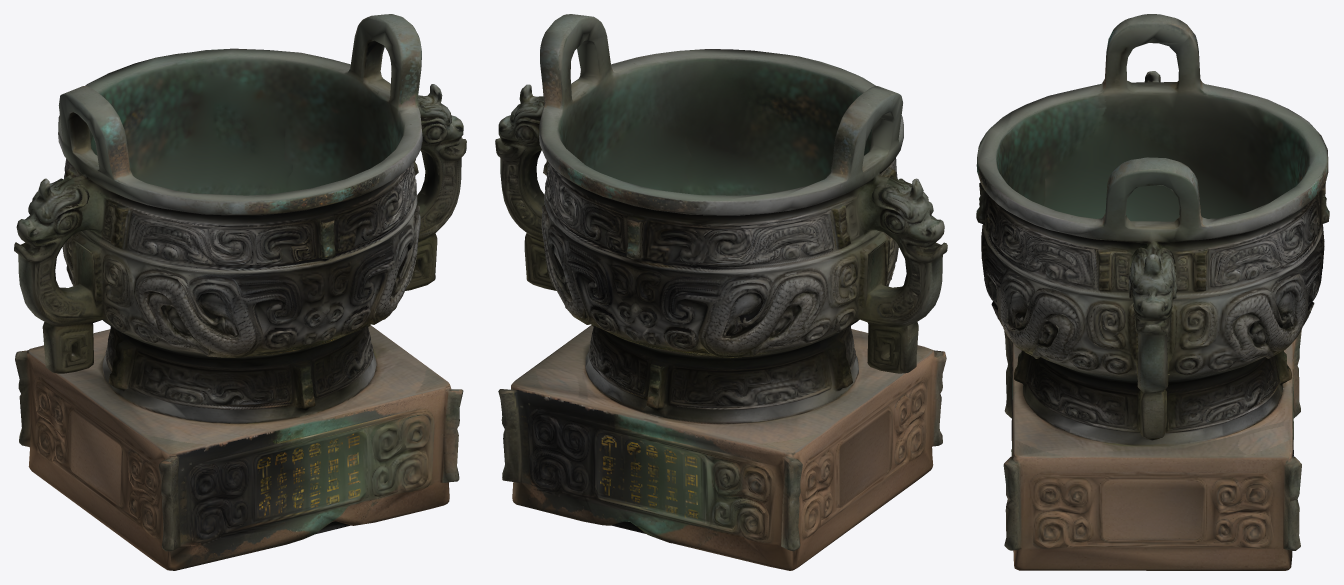
Rendered from wu-wang-zheng-shang-gui.glb.
The picture shows the model from 3 angles, left to right: view 1: azimuth 30°, elevation 25°; view 2: azimuth 150°, elevation 25°; view 3: azimuth 270°, elevation 25°; orthographic projection. The views are drawn at different scales.
Visible parts, largest first — view 1: convert; view 2: convert; view 3: convert.
Part boxes in pixels (x1=…): convert: x1=14, y1=14, x2=466, y2=570; convert: x1=495, y1=14, x2=947, y2=570; convert: x1=976, y1=14, x2=1329, y2=570.
Size of the model in its own units: 0.9724 by 0.8948 by 0.6864.
1 material, 1 textured.
